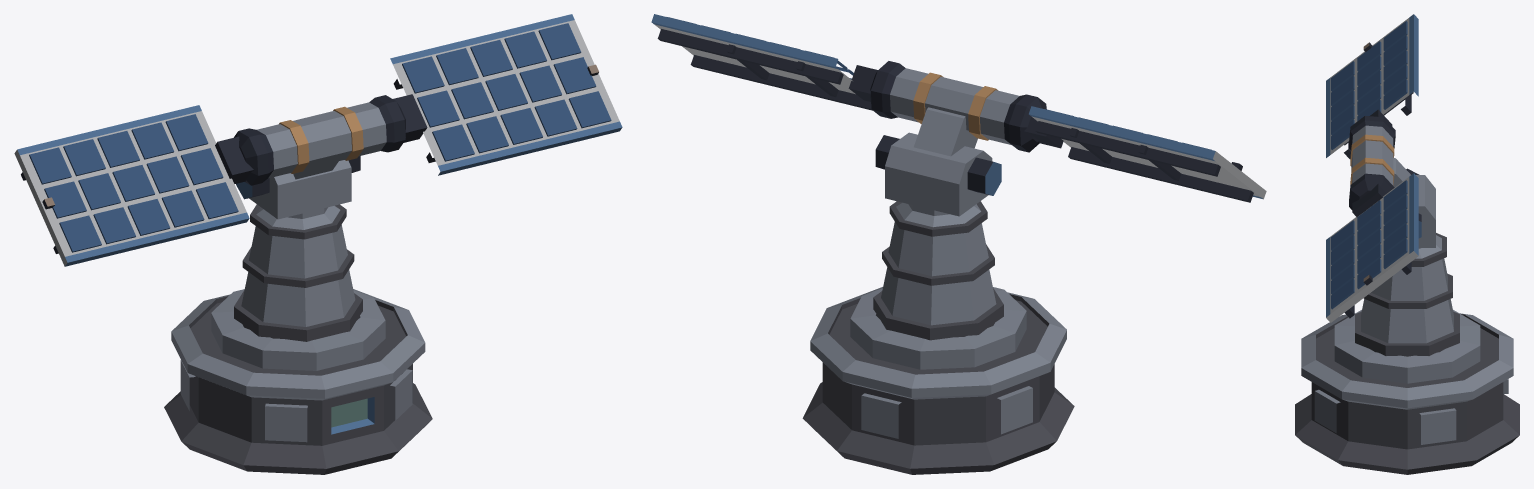
File: solar-panel-wing-a66d89.glb
3 renders of one model, left to right at view 1: azimuth 30°, elevation 25°; view 2: azimuth 150°, elevation 25°; view 3: azimuth 270°, elevation 25°, orthographic. The views are drawn at different scales.
Parts seen in each view (by area): view 1: solar-array, docking-collar, mast; view 2: docking-collar, solar-array, mast; view 3: docking-collar, solar-array, mast.
Boxes of the visible parts, x1,y1,x2,y2 form: solar-array: (14, 14, 622, 266); docking-collar: (164, 289, 432, 474); mast: (234, 156, 362, 341); docking-collar: (802, 287, 1074, 474); solar-array: (651, 14, 1266, 202); mast: (873, 132, 1003, 340); docking-collar: (1295, 310, 1519, 474); solar-array: (1326, 14, 1418, 322); mast: (1355, 168, 1459, 356).
Size of the model in its own units: 5.12 by 2.99 by 2.05.
